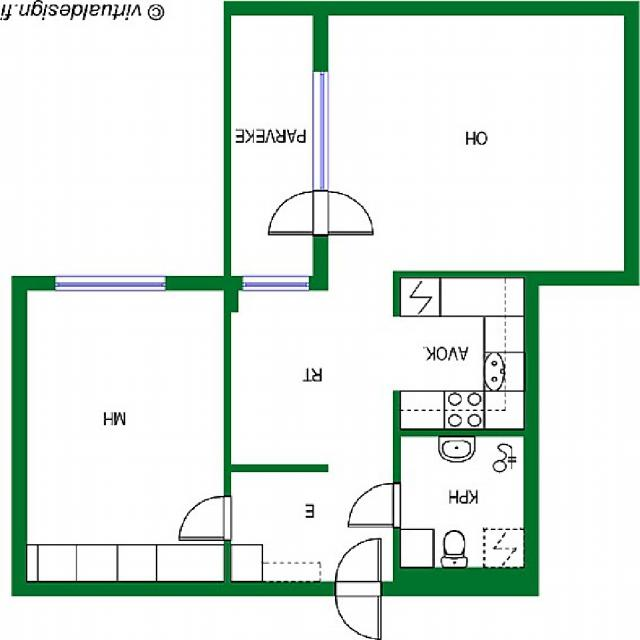door: (335, 538, 380, 596), (335, 582, 380, 639), (314, 191, 373, 234), (269, 191, 328, 234), (348, 483, 400, 526), (179, 496, 230, 539)
